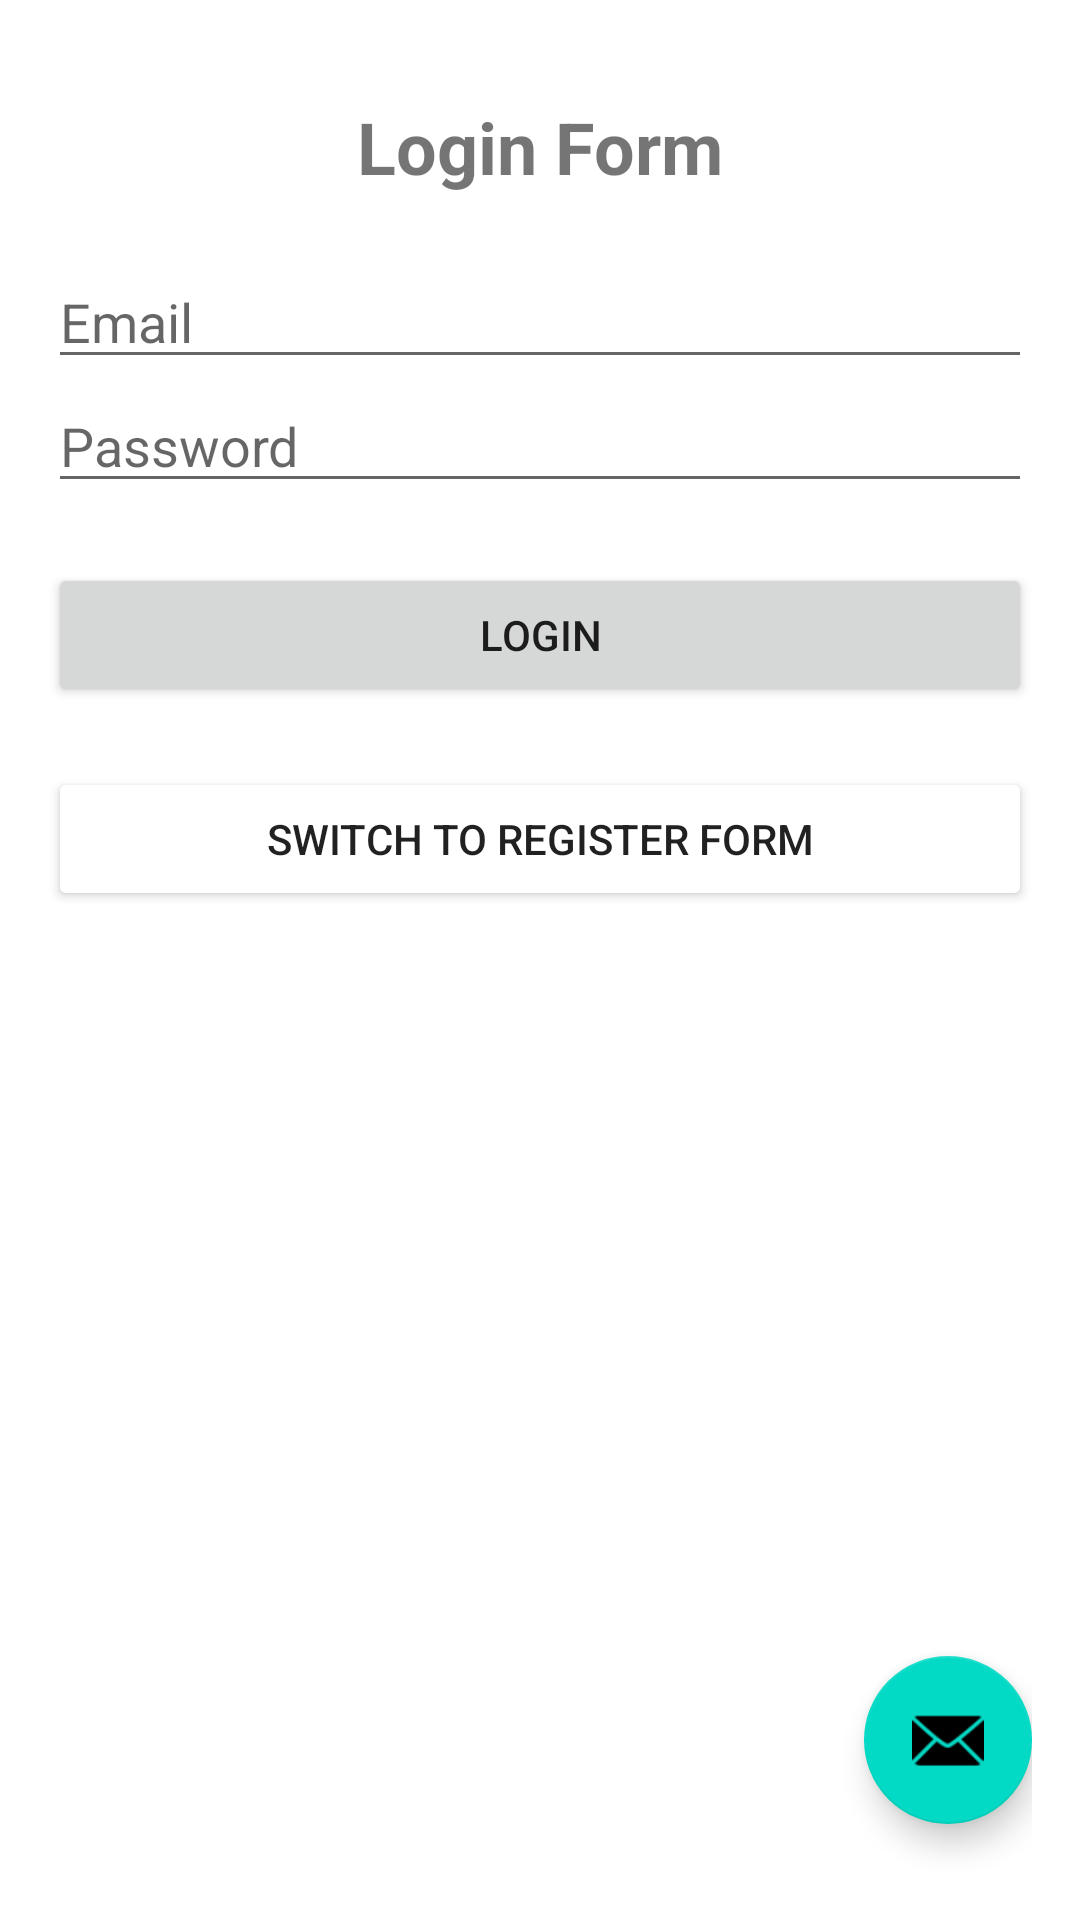

Icon click points for this 1080px×1920px phone screenshot, format (x=x, y=y):
email: (x=948, y=1740)
